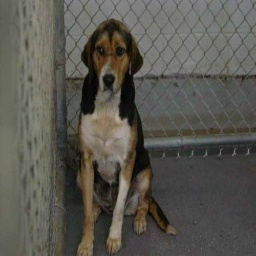dog: (71, 16, 176, 242)
